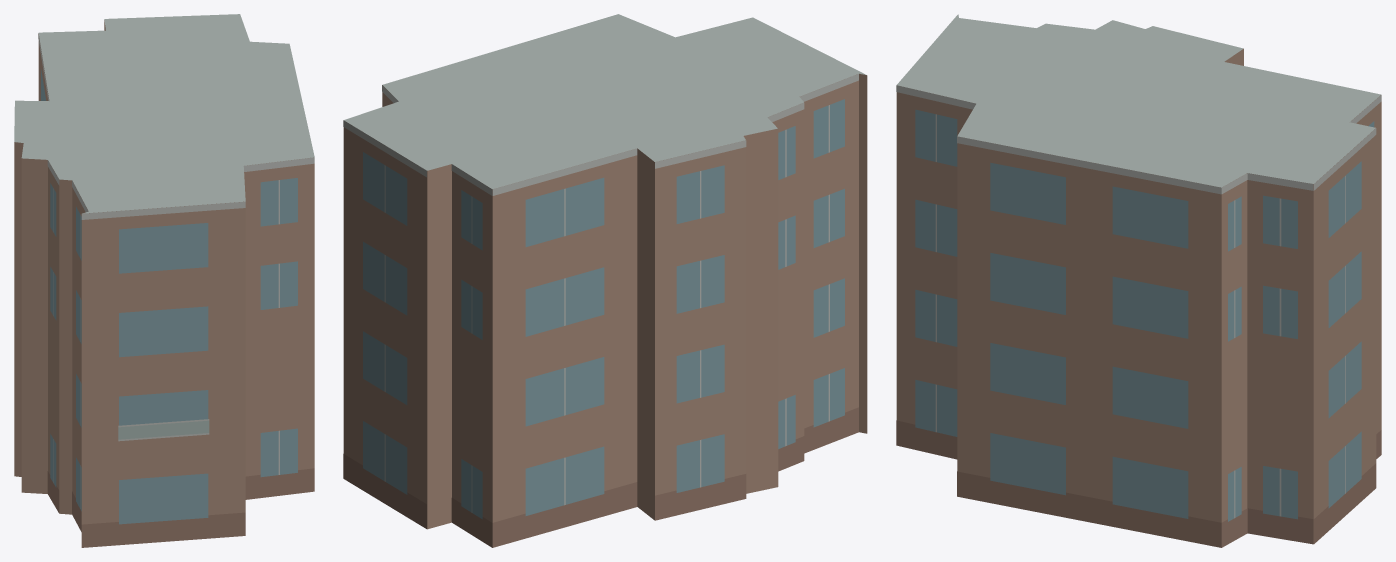
The model's file is survey-upis-32632100.glb.
3 renders of one model, left to right at view 1: azimuth 30°, elevation 25°; view 2: azimuth 150°, elevation 25°; view 3: azimuth 270°, elevation 25°, orthographic. The views are drawn at different scales.
Visible parts, largest first — view 1: survey-upis-32632100.tmp; view 2: survey-upis-32632100.tmp; view 3: survey-upis-32632100.tmp.
Boxes of the visible parts, x1,y1,x2,y2 form: survey-upis-32632100.tmp: (14, 14, 314, 547); survey-upis-32632100.tmp: (343, 14, 867, 547); survey-upis-32632100.tmp: (896, 14, 1381, 547).
Size of the model in its own units: 13.23 by 12.8 by 15.63.
